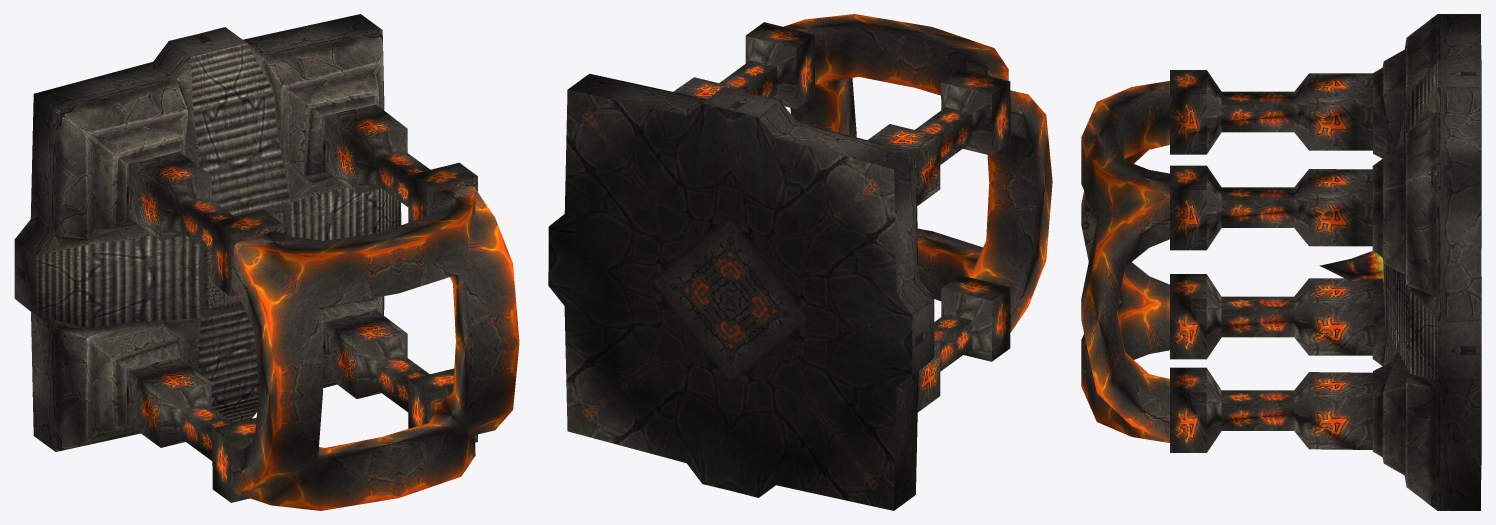
The model's file is Altar-04.obj.
3 views of the same model, side by side, from view 1: azimuth 30°, elevation 25°; view 2: azimuth 150°, elevation 25°; view 3: azimuth 270°, elevation 25° (orthographic).
Visible parts, largest first — view 1: (null); view 2: (null); view 3: (null).
Part boxes in pixels (x1=…): (null): x1=14, y1=14, x2=519, y2=510; (null): x1=548, y1=14, x2=1052, y2=510; (null): x1=1081, y1=14, x2=1481, y2=510.
Size of the model in its own units: 5.76 by 5.76 by 5.52.
